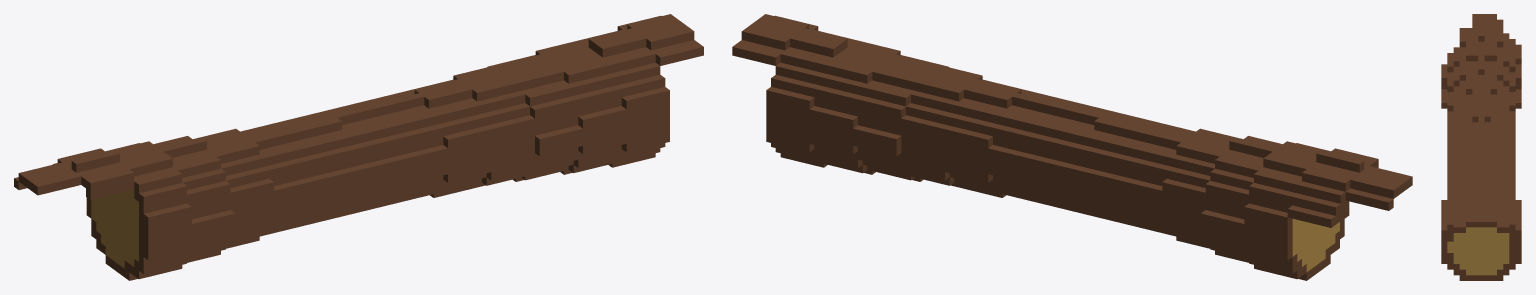
Rendered from бревно.fbx.
The picture shows the model from 3 angles, left to right: view 1: azimuth 30°, elevation 25°; view 2: azimuth 150°, elevation 25°; view 3: azimuth 270°, elevation 25°; orthographic projection. The views are drawn at different scales.
Parts seen in each view (by area): view 1: Cylinder; view 2: Cylinder; view 3: Cylinder.
Boxes of the visible parts, bbox=[...] form: Cylinder: bbox=[14, 14, 703, 280]; Cylinder: bbox=[732, 14, 1412, 280]; Cylinder: bbox=[1441, 14, 1521, 280].
Bounding box in the file's own units: 550 × 97.02 × 90.09.
